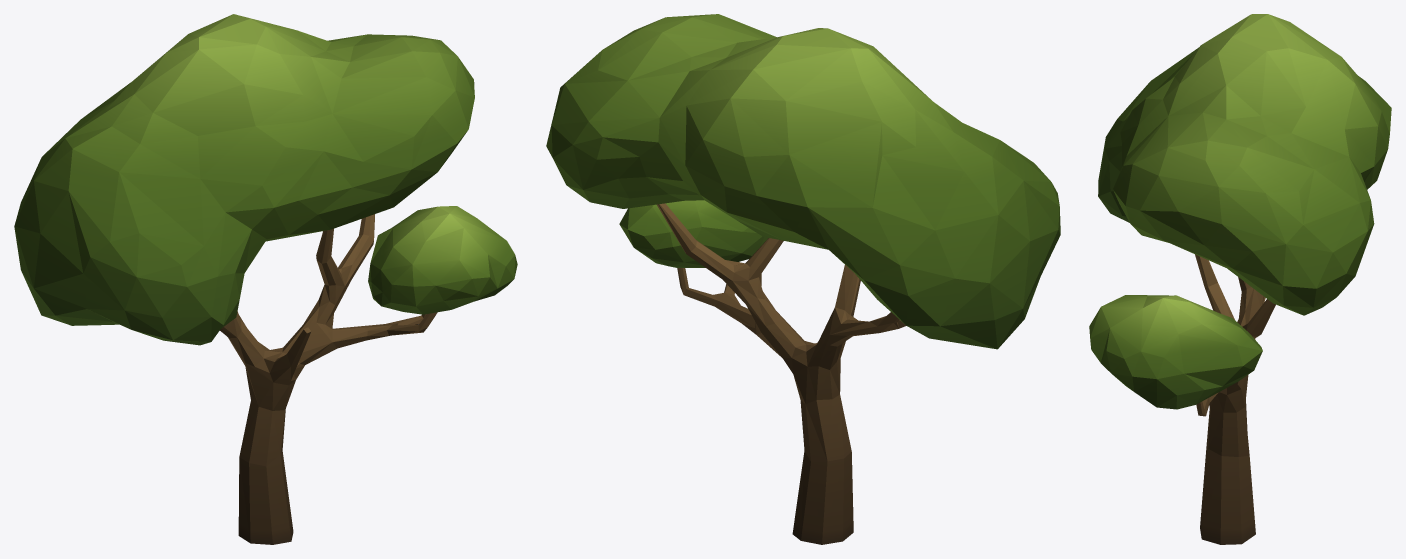
The model's file is Tree_09.fbx.
3 views of the same model, side by side, from view 1: azimuth 30°, elevation 25°; view 2: azimuth 150°, elevation 25°; view 3: azimuth 270°, elevation 25° (orthographic). The views are drawn at different scales.
Parts seen in each view (by area): view 1: Tree_09; view 2: Tree_09; view 3: Tree_09.
Boxes of the visible parts, box(x1,y1,x2,y2) form: Tree_09: box(14, 14, 517, 544); Tree_09: box(546, 14, 1060, 544); Tree_09: box(1089, 14, 1391, 544).
Bounding box in the file's own units: 5.42 × 5.78 × 3.19.
